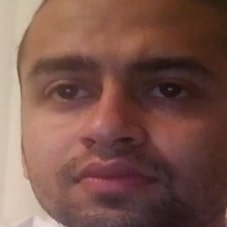drowsy: (22, 36, 227, 202)
